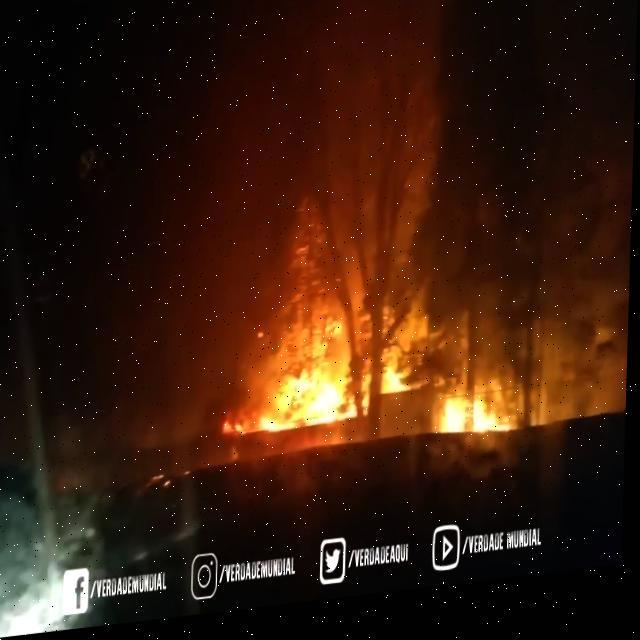Fire: (220, 296, 376, 447), (441, 395, 518, 448), (382, 342, 424, 404)
